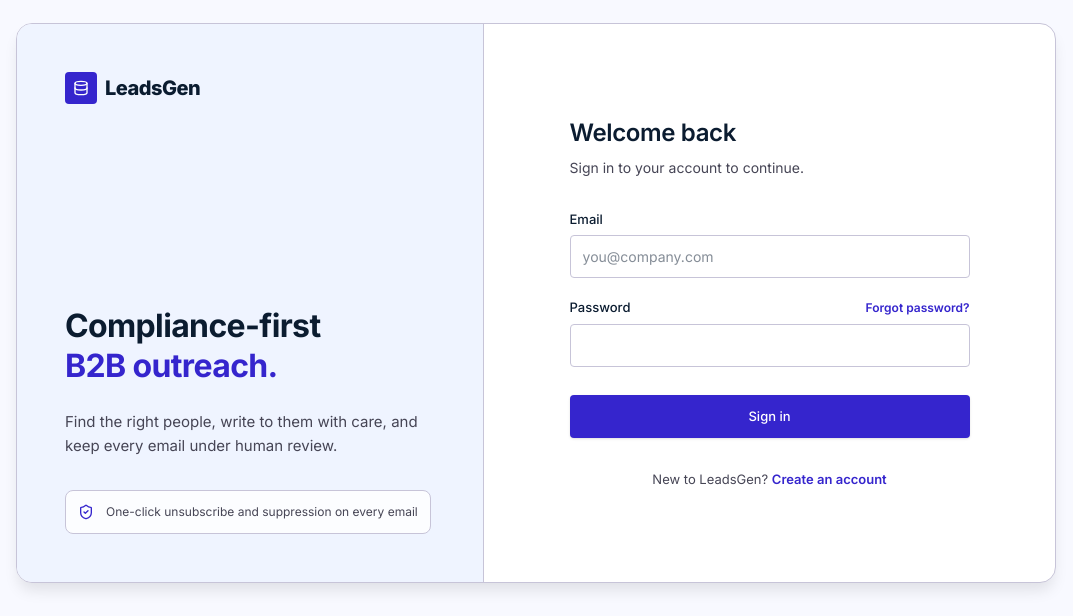
login with two-factor authentication › offers recovery codes and shows wrong-code errors
Step 1. Type "sam@acme.co.uk" into the field labelled "Email" → (770, 256), box [570,235,970,278]
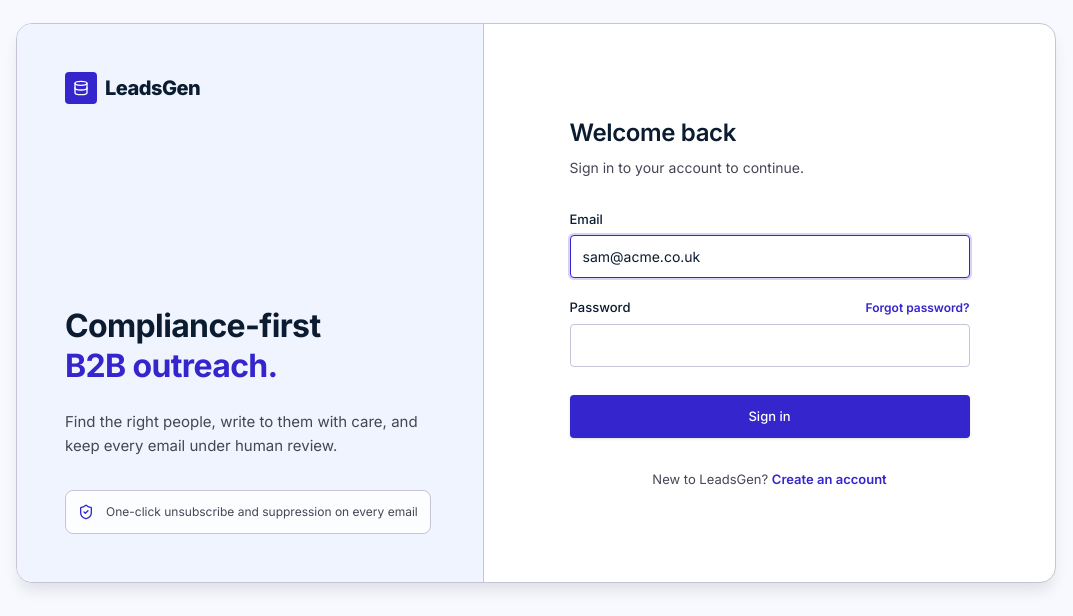
Step 2. Type "correct-horse" into the password field labelled "Password" → (770, 345), box [570,324,970,366]
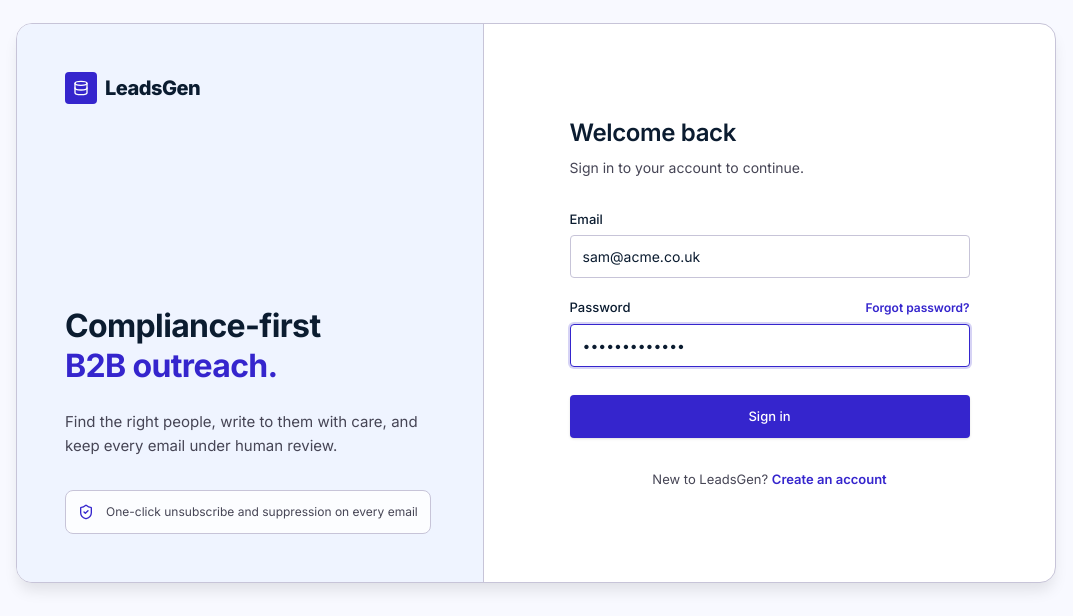
Step 3. Click the button "Sign in" → (770, 416), box [570,394,970,438]
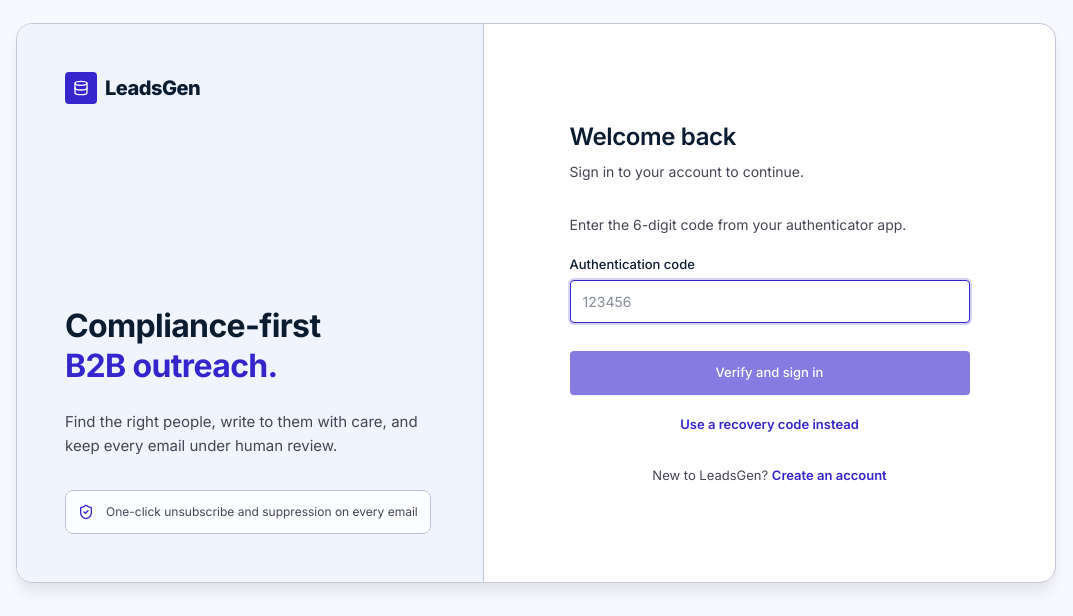
Step 4. Click the button "Use a recovery code instead" → (770, 424), box [570,414,970,434]
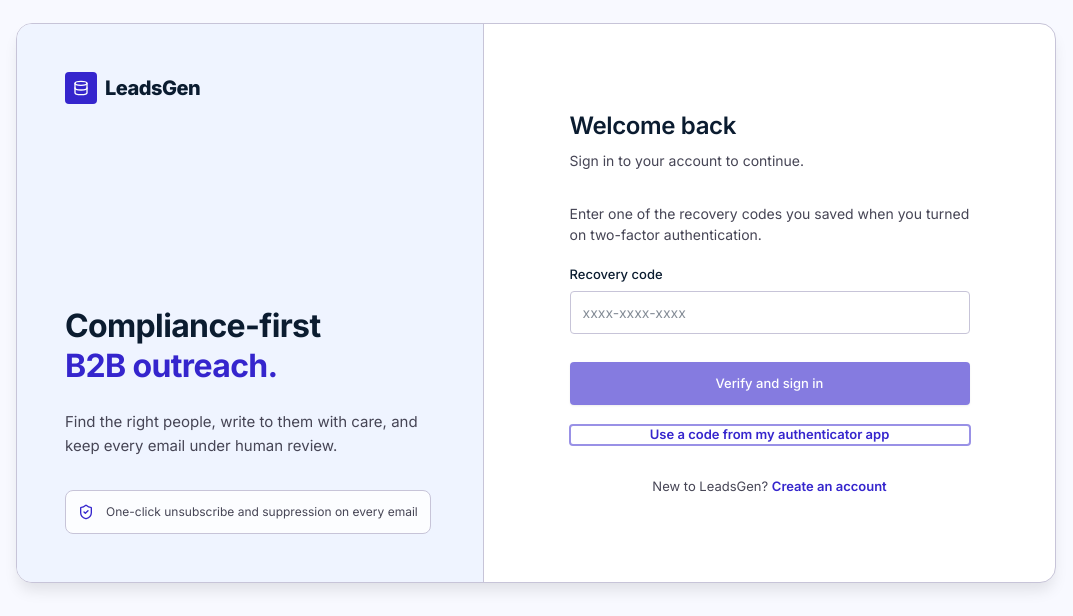
Step 5. Type "abcd-ef01-2345" into the field labelled "Recovery code" → (770, 312), box [570,290,970,334]
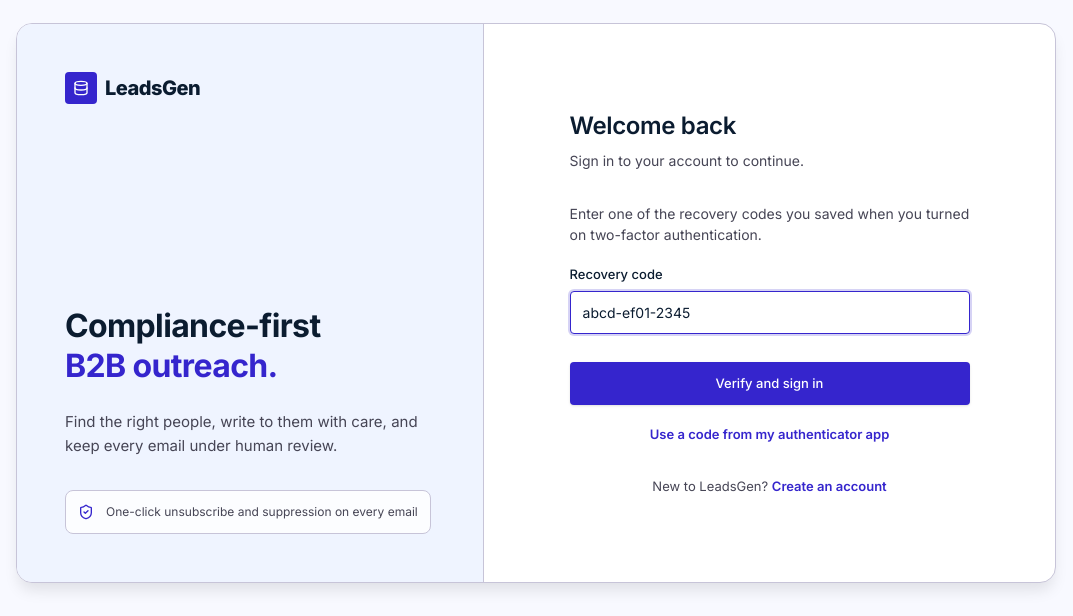
Step 6. Click the button "Verify and sign in" → (770, 383), box [570,362,970,405]
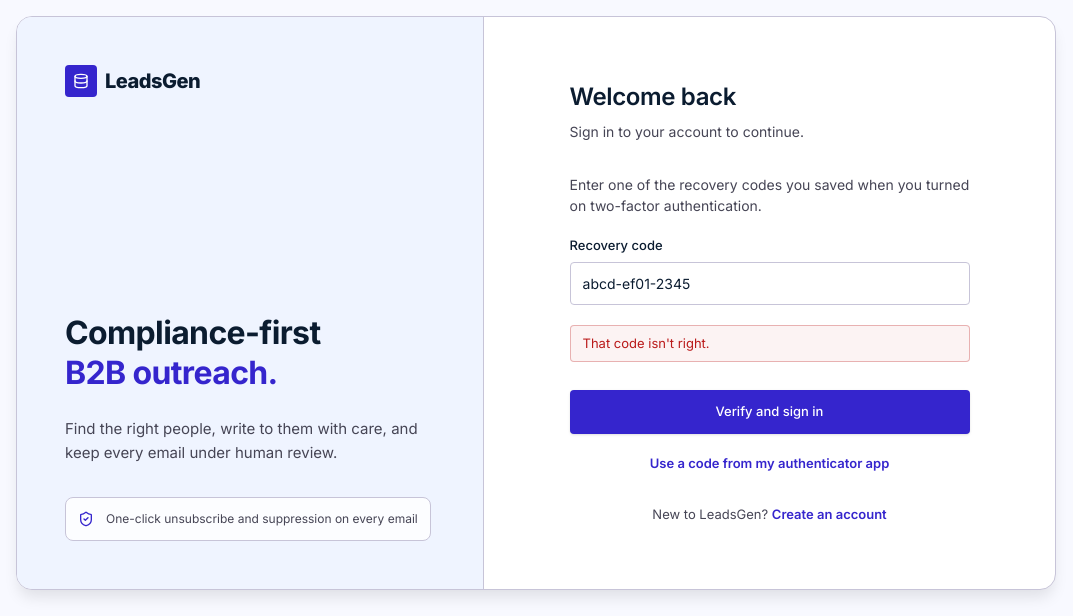
Expected: the message reads "That code isn't right.", [582,335,710,351]
